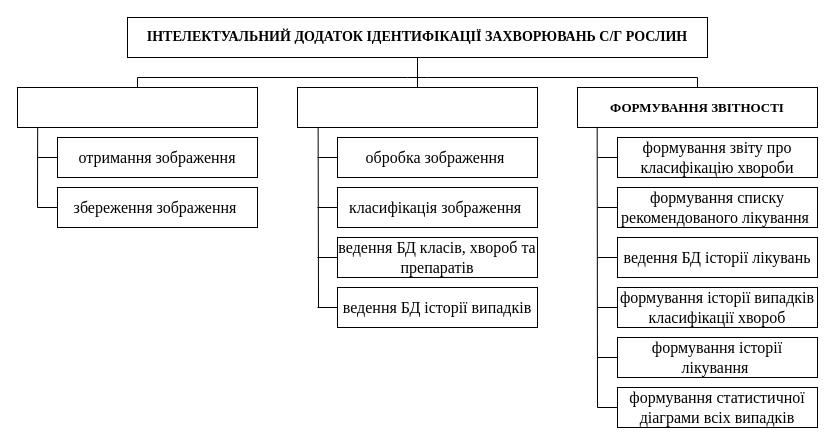
Image size: 835x445. Some labels were removed from this diagram. Here are the shapes that lost their labels. From the top down, the centre of each, then its label:
(x=137, y=107): ОПРАЦЮВАННЯ ВХ. ІНФОРМАЦІЇ
(x=417, y=107): РОЗПІЗНАВАННЯ ЗАХВОРЮВАНЬ С/Г РОСЛИН
